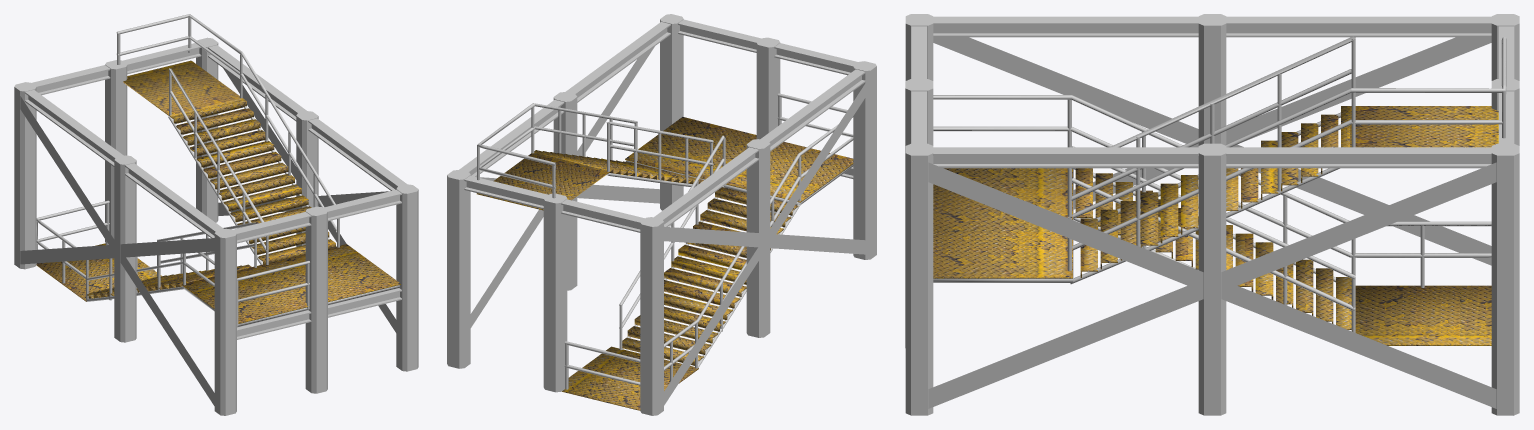
File: scaffold.fbx
3 views of the same model, side by side, from view 1: azimuth 30°, elevation 25°; view 2: azimuth 150°, elevation 25°; view 3: azimuth 270°, elevation 25° (orthographic). The views are drawn at different scales.
Visible parts, largest first — view 1: scaffold_frame, scaffold_floor, scaffold_railings; view 2: scaffold_frame, scaffold_floor, scaffold_railings; view 3: scaffold_frame, scaffold_floor, scaffold_railings.
Boxes of the visible parts, bbox=[...] form: scaffold_frame: bbox=[14, 37, 418, 415]; scaffold_floor: bbox=[36, 60, 400, 323]; scaffold_railings: bbox=[36, 14, 399, 327]; scaffold_frame: bbox=[447, 14, 876, 415]; scaffold_floor: bbox=[476, 117, 853, 410]; scaffold_railings: bbox=[477, 93, 853, 389]; scaffold_frame: bbox=[905, 14, 1519, 415]; scaffold_floor: bbox=[933, 106, 1498, 345]; scaffold_railings: bbox=[933, 36, 1506, 332].
Size of the model in its own units: 24 by 24.68 by 44.01.
3 materials, 1 textured.
